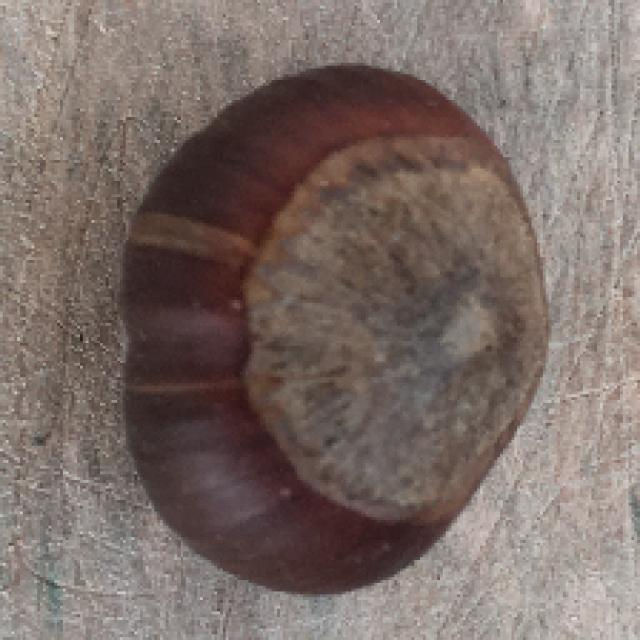DamagedHazelnut: (119, 61, 553, 601)
